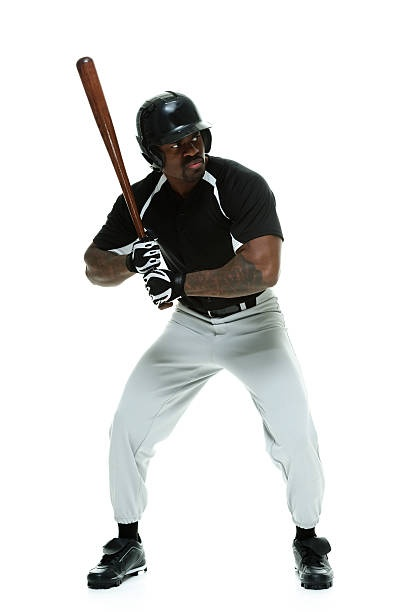bita: (65, 60, 170, 291)
